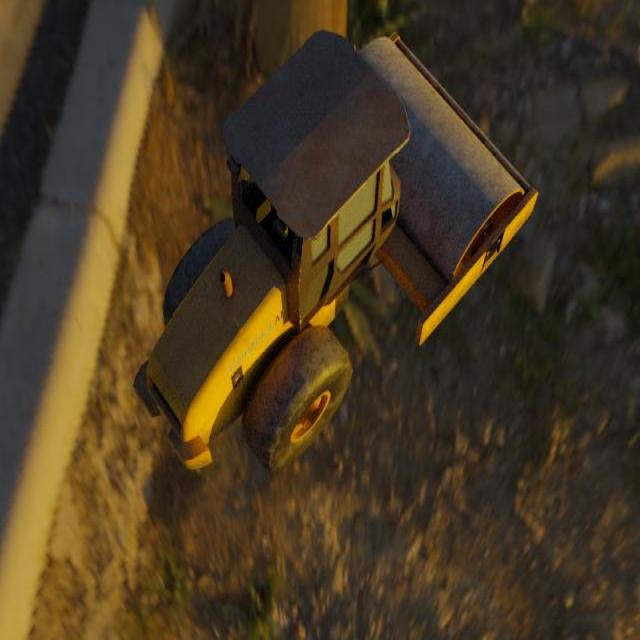Roller: (132, 28, 538, 472)
